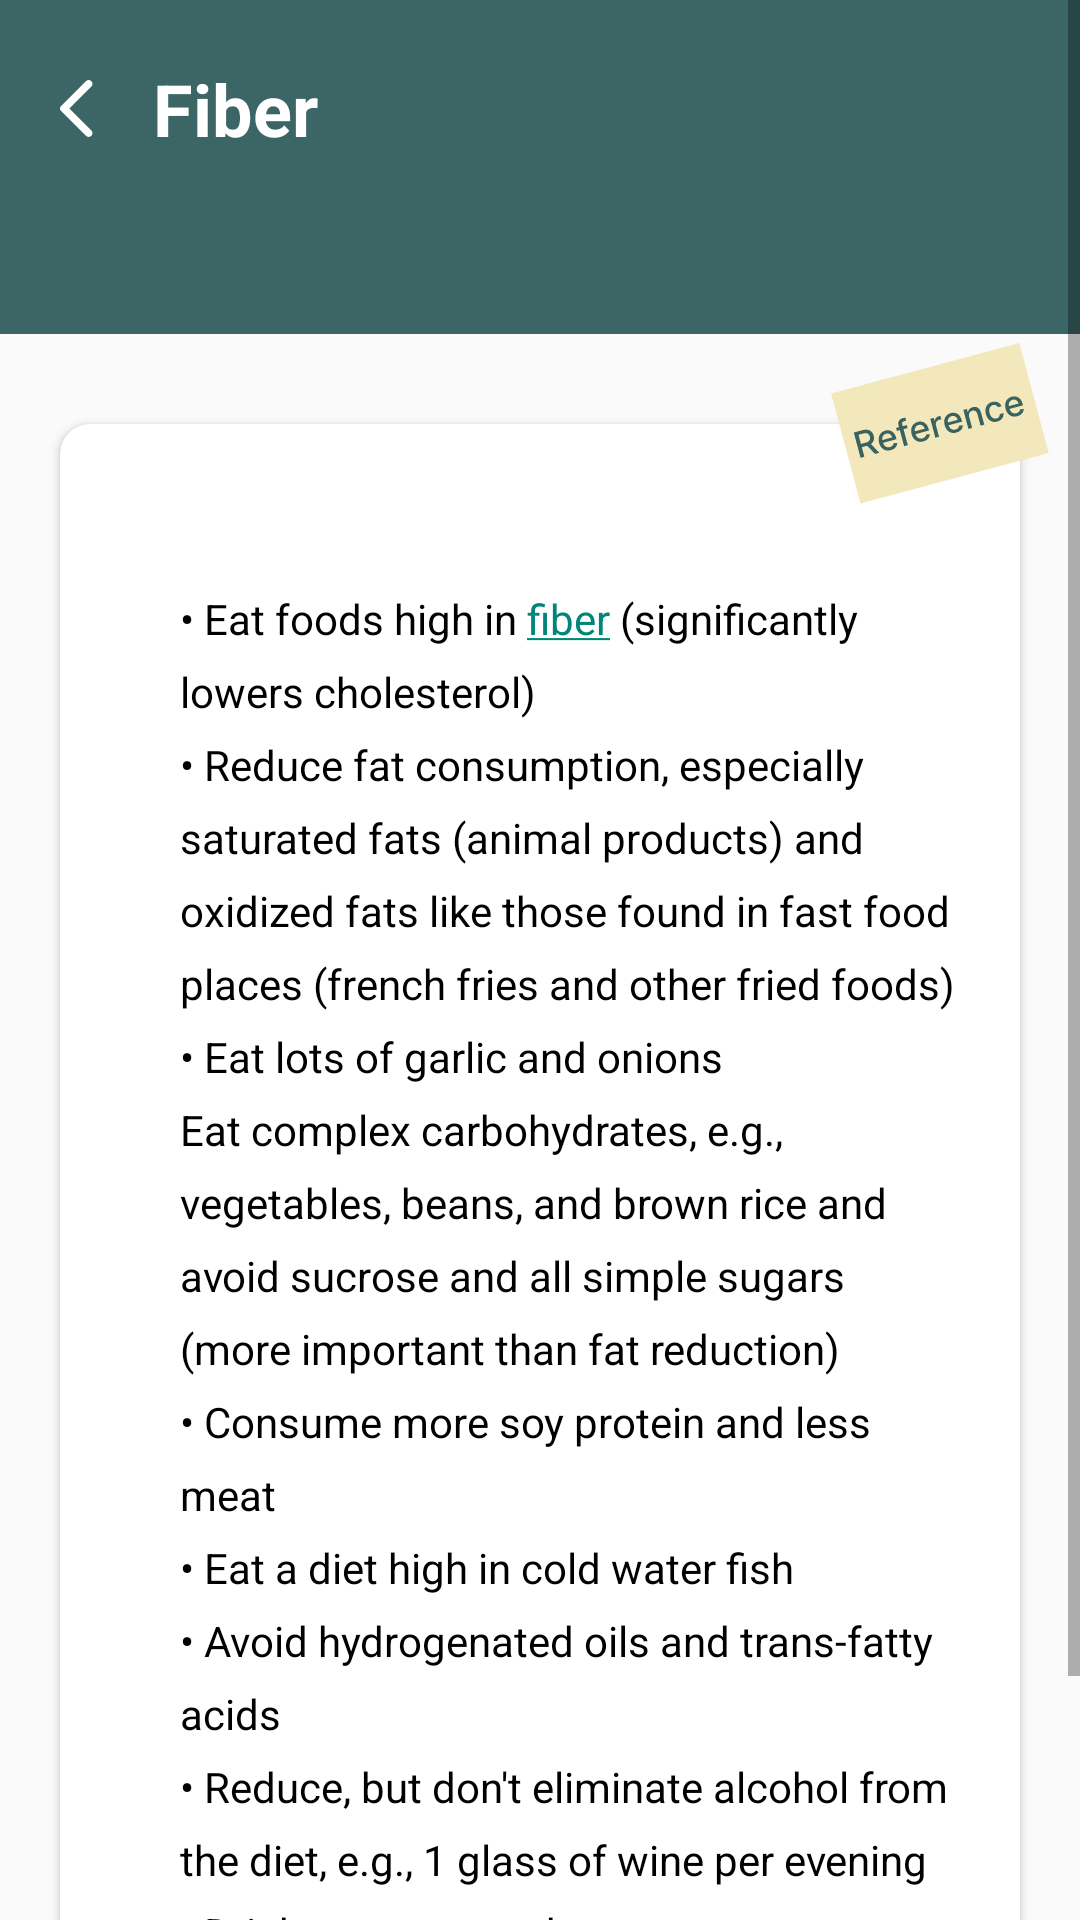

Icon click points for this 1080px×1920px phone screenshot, format [x,y]:
back: [76,108]
